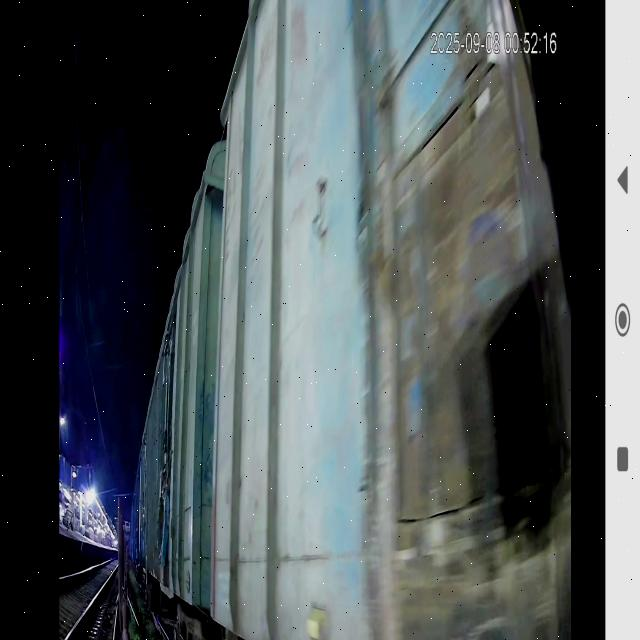joint: (182, 0, 274, 640)
